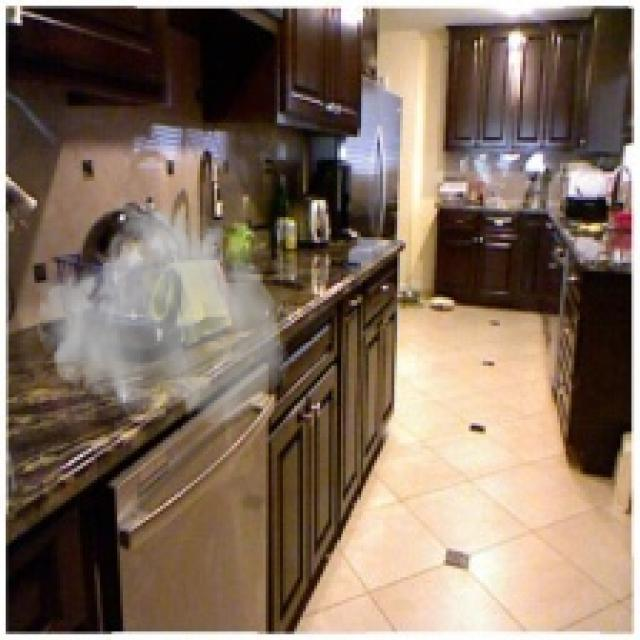Smoke: (35, 194, 292, 426)
